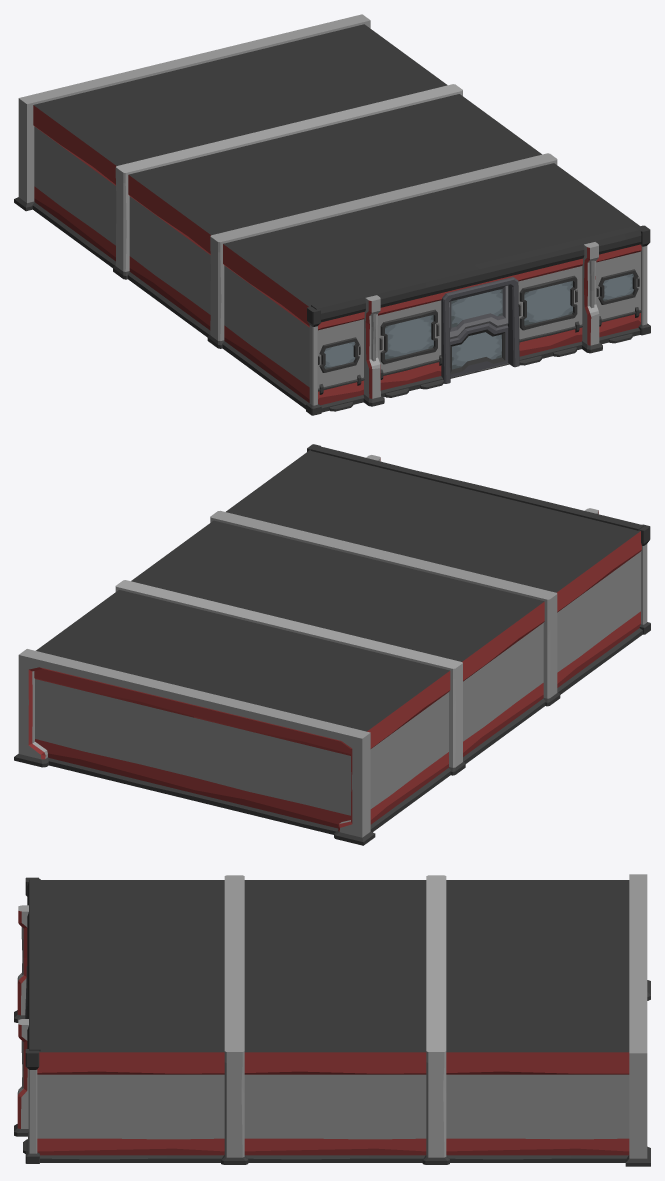
3 views of the same model, one above another, from view 1: azimuth 30°, elevation 25°; view 2: azimuth 150°, elevation 25°; view 3: azimuth 270°, elevation 25° (orthographic). The views are drawn at different scales.
Parts seen in each view (by area): view 1: SM_Bld_Bank_01, SM_Bld_Bank_01_Glass, SM_Bld_Bank_Door_Bottom_01, SM_Bld_Bank_Door_Top_01_Glass, SM_Bld_Bank_Door_Bottom_01_Glass, SM_Bld_Bank_Door_Top_01; view 2: SM_Bld_Bank_01; view 3: SM_Bld_Bank_01.
Part boxes in pixels (<box>): SM_Bld_Bank_01: <box>14,14,650,415</box>; SM_Bld_Bank_01_Glass: <box>324,273,633,368</box>; SM_Bld_Bank_Door_Bottom_01: <box>450,323,508,377</box>; SM_Bld_Bank_Door_Top_01_Glass: <box>451,289,502,327</box>; SM_Bld_Bank_Door_Bottom_01_Glass: <box>452,332,501,369</box>; SM_Bld_Bank_Door_Top_01: <box>449,285,508,339</box>; SM_Bld_Bank_01: <box>14,444,650,845</box>; SM_Bld_Bank_01: <box>14,874,650,1166</box>.
Bounding box in the file's own units: 10.67 × 3.07 × 15.79.
2 materials, 2 textured.
